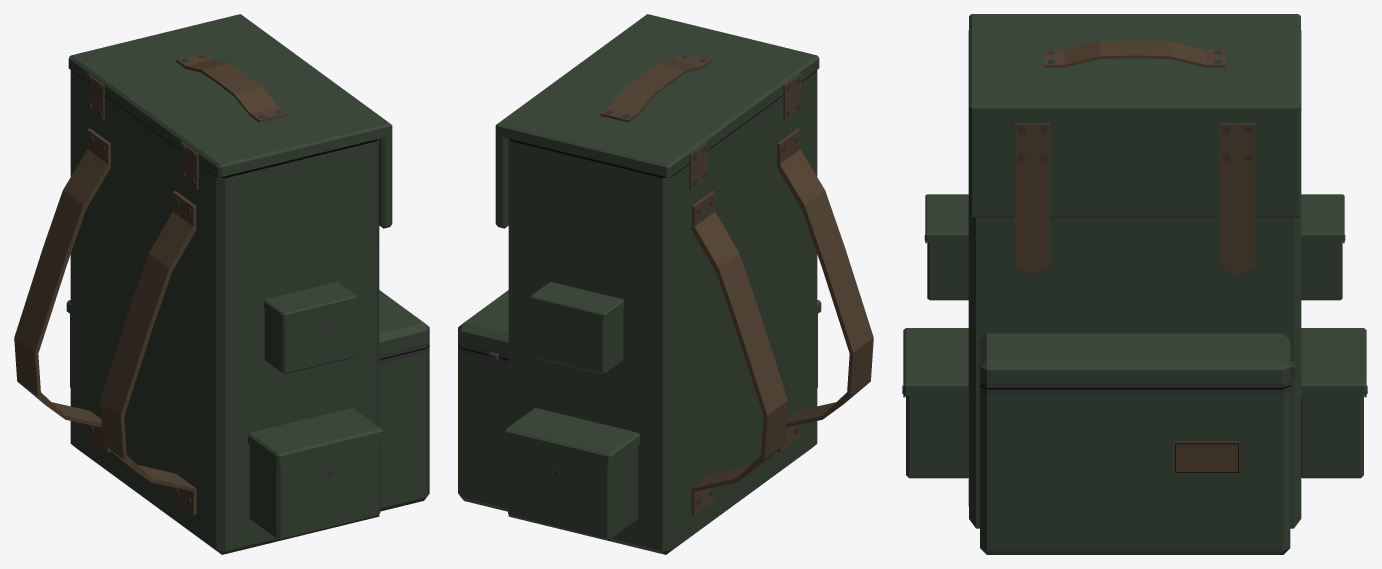
File: bag+pouches.fbx
3 renders of one model, left to right at view 1: azimuth 30°, elevation 25°; view 2: azimuth 150°, elevation 25°; view 3: azimuth 270°, elevation 25°, orthographic. The views are drawn at different scales.
Parts seen in each view (by area): view 1: Plane.003, Pouches; view 2: Plane.003, Pouches; view 3: Plane.003, Pouches.
Part boxes in pixels (x1,y1,x2,y2): Plane.003: [14, 14, 429, 554]; Pouches: [66, 281, 383, 540]; Plane.003: [458, 14, 873, 554]; Pouches: [504, 281, 821, 540]; Plane.003: [968, 14, 1301, 554]; Pouches: [902, 194, 1367, 478].
Size of the model in its own units: 422 by 551 by 527.
